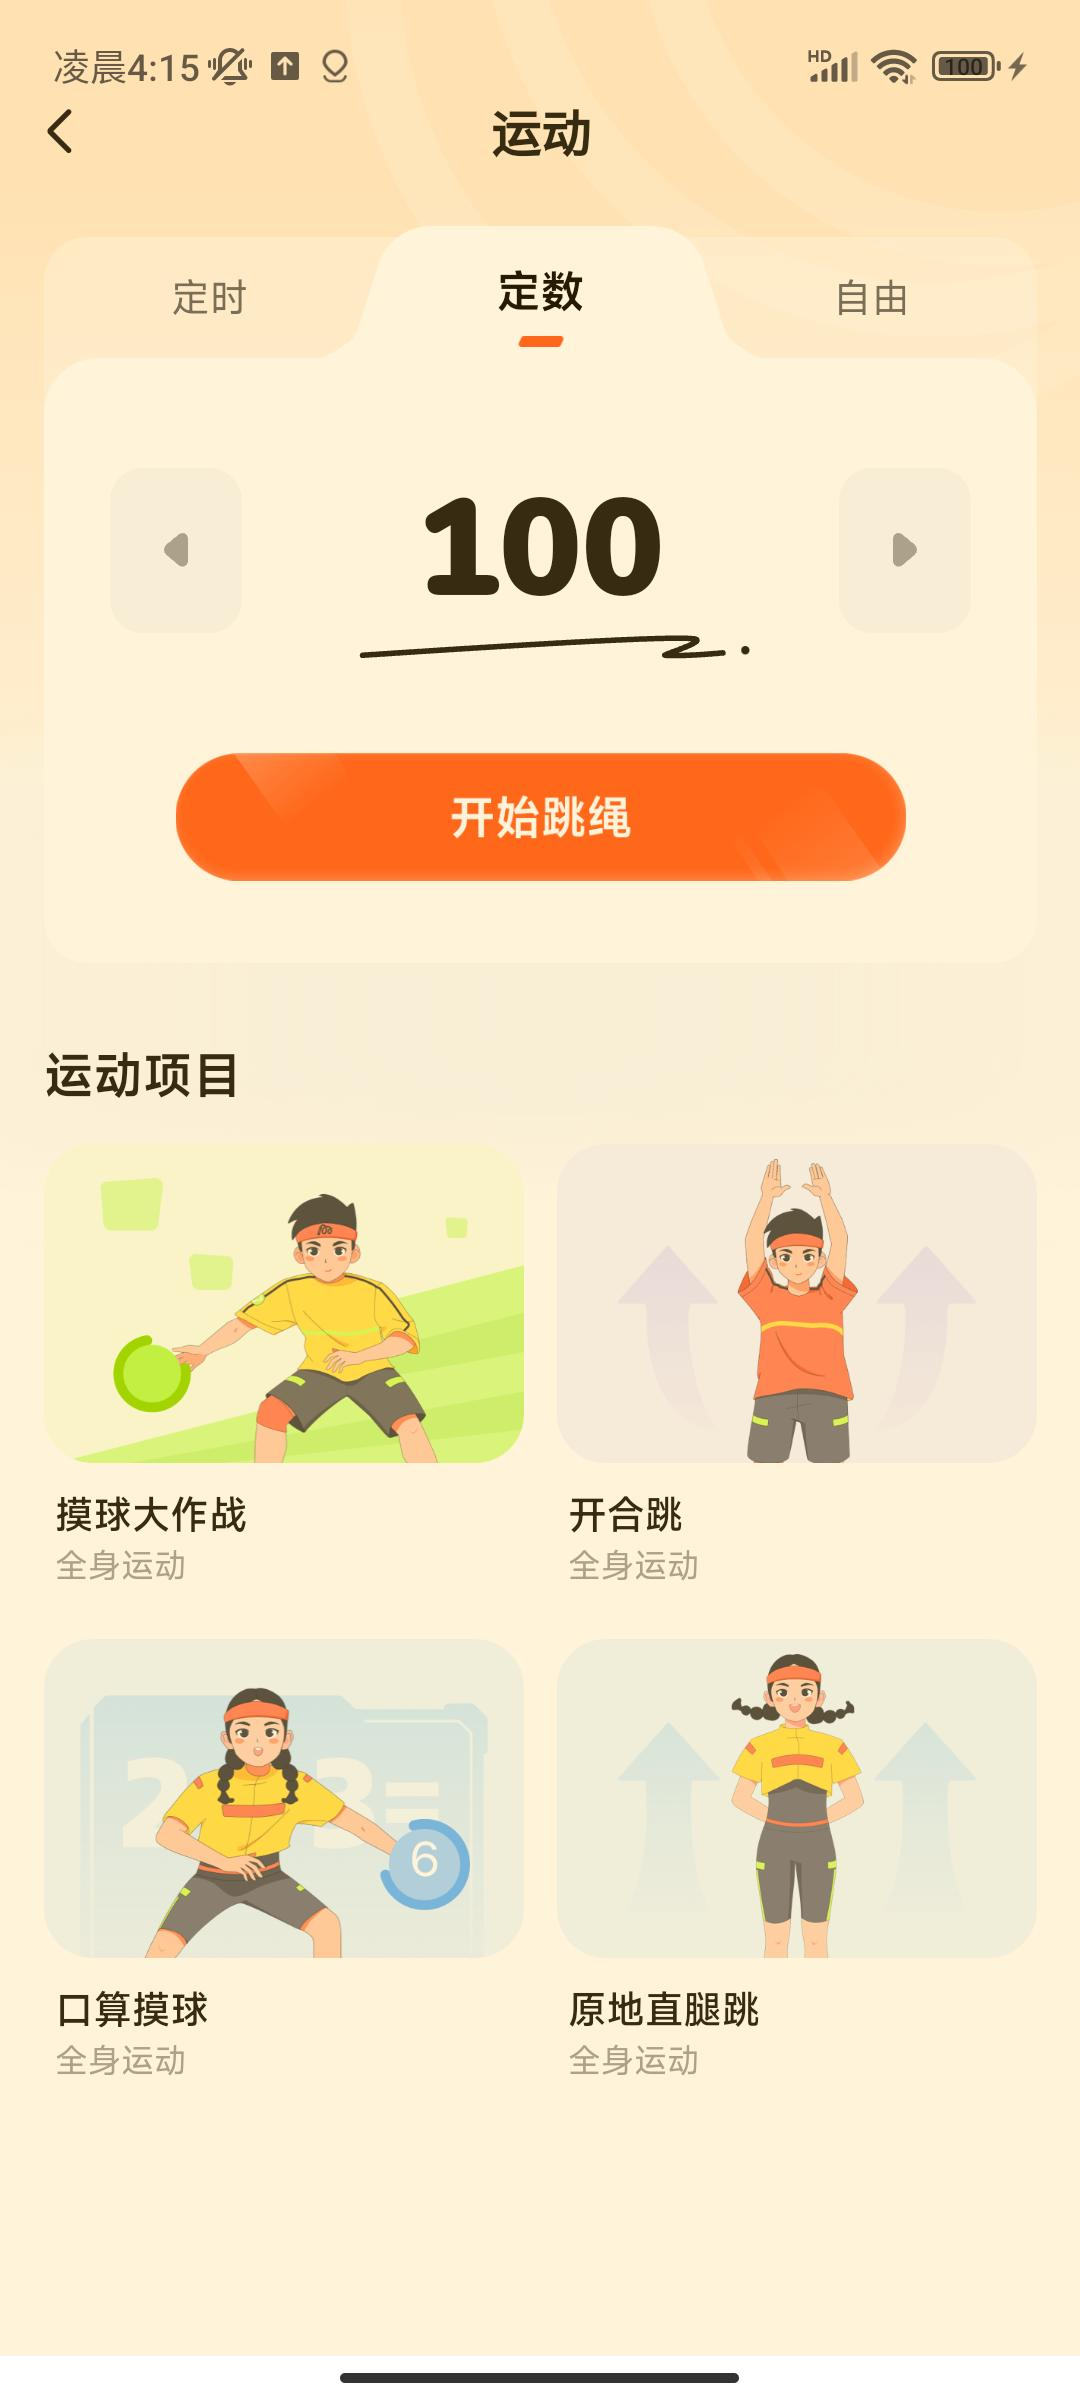ui_group: (554, 1638, 1040, 2098), (552, 1142, 1037, 1603), (40, 1139, 525, 1598), (41, 1639, 526, 2095)
